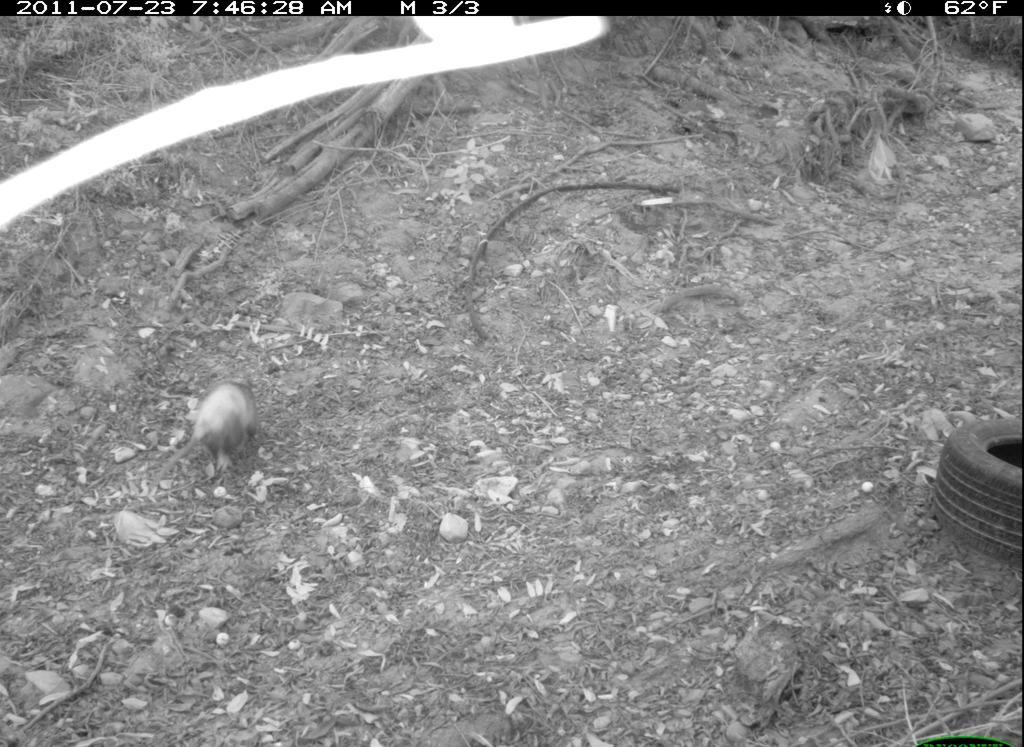opossum: (144, 376, 265, 500)
